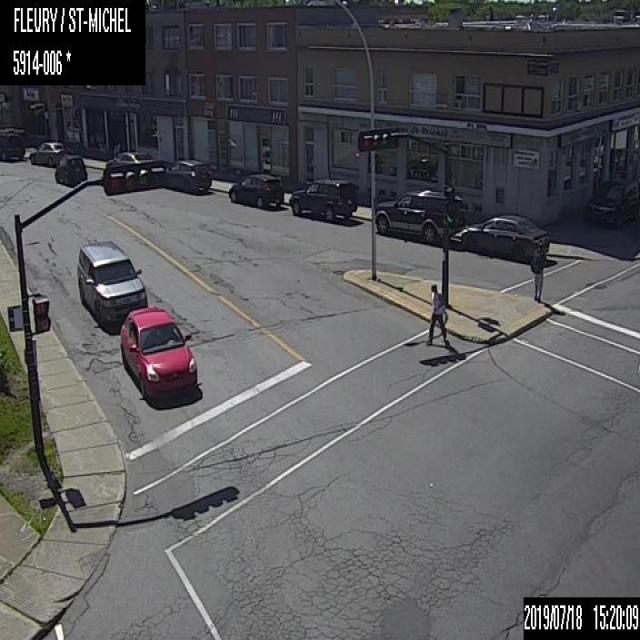pedestrian: (426, 281, 448, 348), (529, 233, 550, 303)
vehicle: (120, 301, 199, 400), (76, 238, 150, 329), (376, 185, 464, 244), (458, 209, 546, 261), (584, 172, 638, 232), (289, 176, 357, 220), (227, 170, 284, 210), (165, 157, 212, 195), (55, 154, 87, 187), (29, 137, 66, 165), (0, 125, 27, 163), (103, 147, 152, 167)
